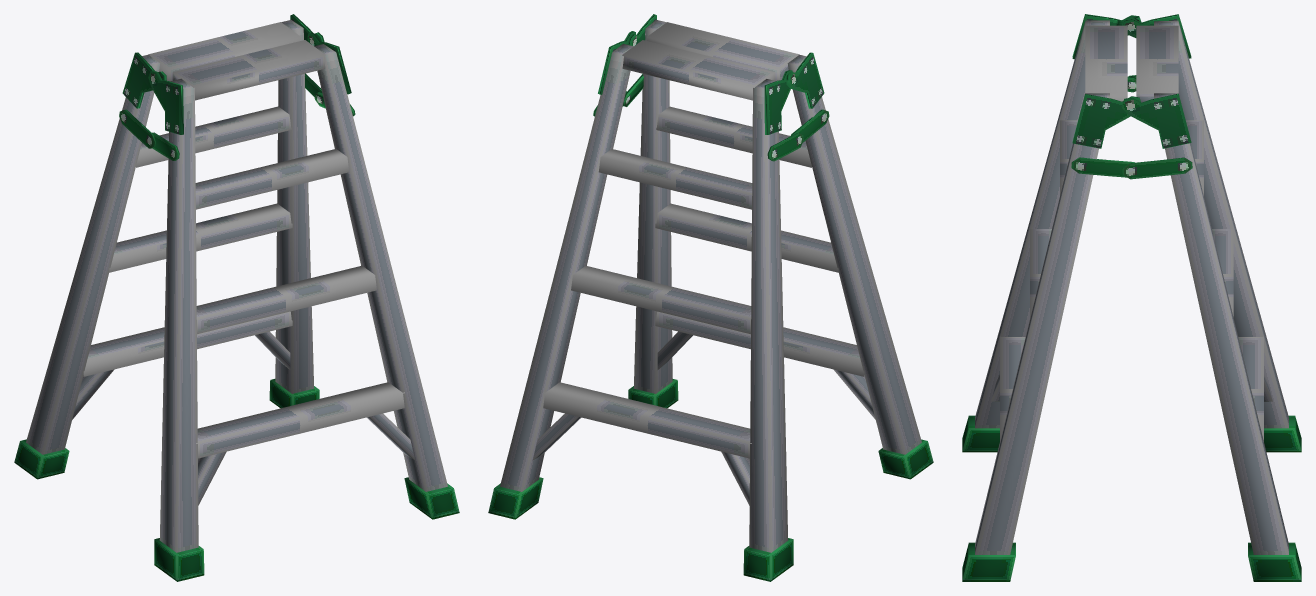
File: int_oth_stepladder.dae
3 views of the same model, side by side, from view 1: azimuth 30°, elevation 25°; view 2: azimuth 150°, elevation 25°; view 3: azimuth 270°, elevation 25° (orthographic). The views are drawn at different scales.
Visible parts, largest first — view 1: int_oth_stepladder; view 2: int_oth_stepladder; view 3: int_oth_stepladder.
Boxes of the visible parts, box(x1,y1,x2,y2) form: int_oth_stepladder: box(14, 14, 459, 581); int_oth_stepladder: box(488, 14, 933, 581); int_oth_stepladder: box(962, 14, 1301, 581).
Bounding box in the file's own units: 31.99 × 47.41 × 32.
1 material, 1 textured.
